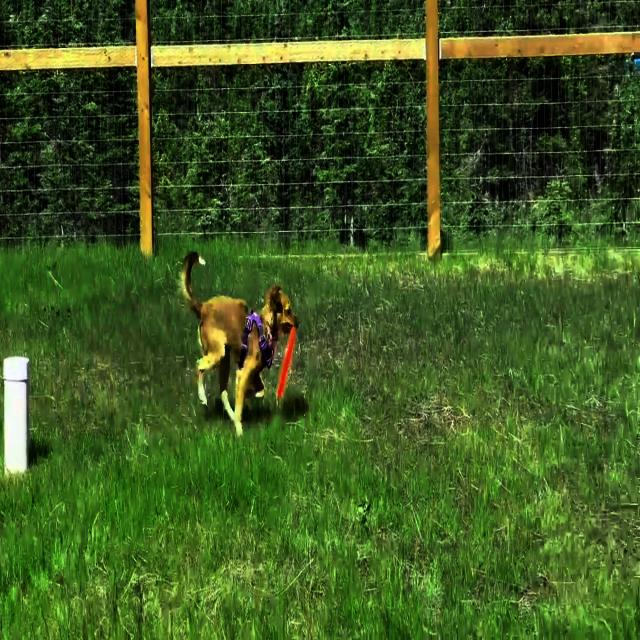Dog: (178, 252, 299, 436)
